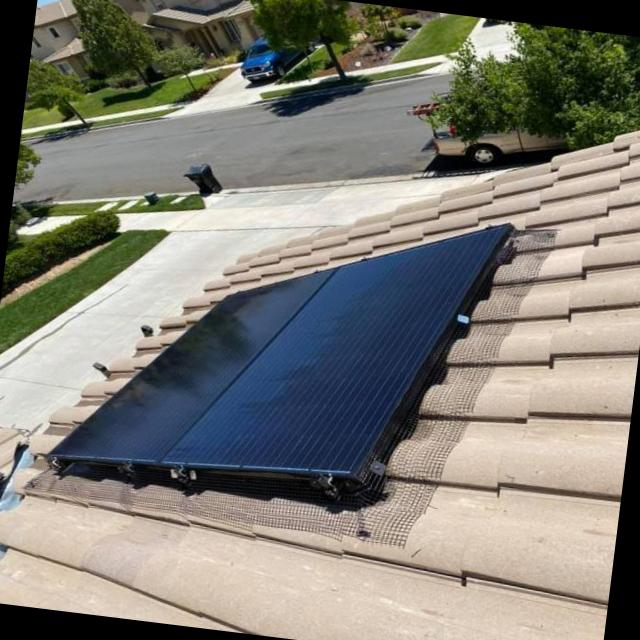no faulty: (163, 227, 510, 474), (46, 267, 334, 462)
